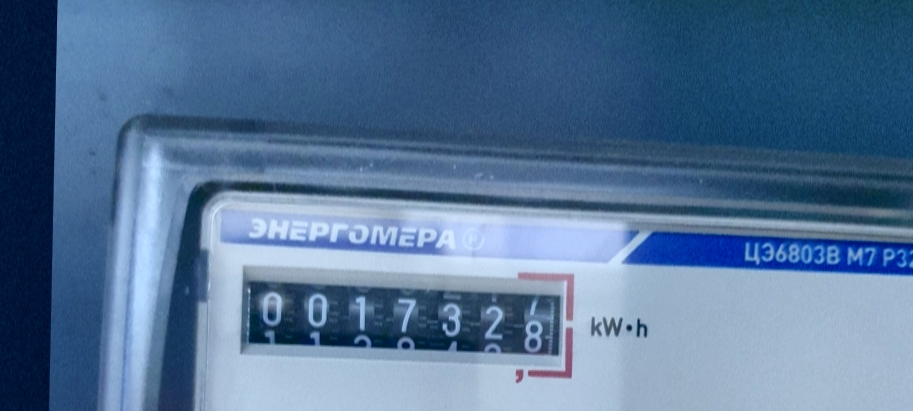0: (259, 288, 286, 328), (307, 290, 330, 329)
1: (352, 292, 370, 332)
2: (483, 303, 506, 340)
3: (441, 301, 464, 337)
7: (396, 295, 419, 334)
8: (524, 317, 543, 353)
screen: (230, 262, 586, 385)
